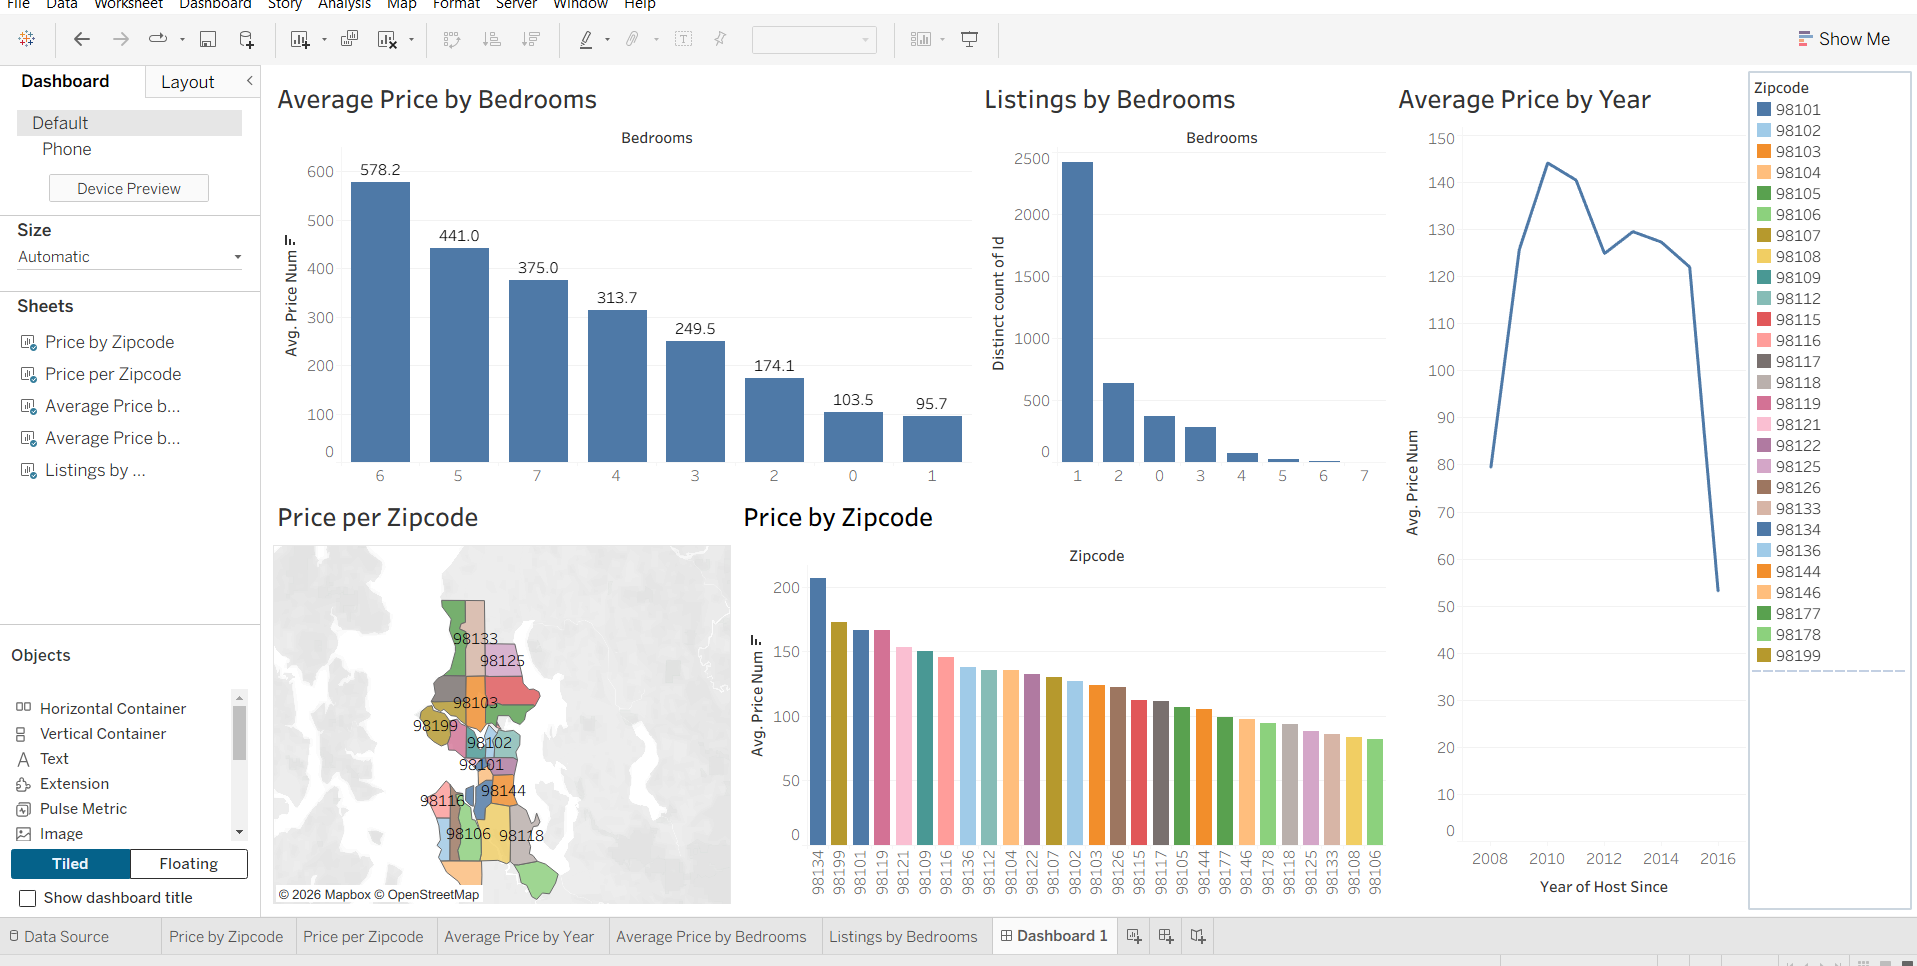

What the dashboard file says about the page in this screenshot:
{"tool":"tableau","page":{"name":"Dashboard 1","canvas":[1000,1000],"units":"permille","ordinal":0},"visuals":[{"type":"worksheet","title":"Average Price by Bedrooms","mark":"Bar","rows":["Calculation_2017667605098496"],"cols":["bedrooms"],"box":[4.8,9.4,426.7,490.6]},{"type":"worksheet","title":"Listings by Bedrooms","mark":"Automatic","rows":["id"],"cols":["bedrooms"],"box":[431.5,9.4,249.8,490.6]},{"type":"worksheet","title":"Average Price by Year","mark":"Line","rows":["Calculation_2017667605098496"],"cols":["host_since"],"box":[681.4,9.4,217.3,981.2]},{"type":"legend","title":"Price by Zipcode","param":"[federated.12erpnm1e31wxz1g6sfn00jbye2o].[none:zipcode:ok]","box":[898.6,9.4,96.6,701.5]},{"type":"worksheet","title":"Price per Zipcode","mark":"Multipolygon","box":[4.8,500,281.2,490.6]},{"type":"worksheet","title":"Price by Zipcode","mark":"Automatic","rows":["Calculation_2017667605098496"],"cols":["zipcode"],"box":[286.1,500,395.3,490.6]}]}

Visuals, with their boxes on the dashboard's canvas, which has no fixed pixel size, in thousandths of its width and height (x1, y1, x2, y2). These are canvas units, not pixel positions in the 1917x966 screenshot, which may show the page scaled, cropped or inside an application window:
"Average Price by Bedrooms" worksheet (Bar marks): [left=5, top=9, right=432, bottom=500]
"Listings by Bedrooms" worksheet: [left=432, top=9, right=681, bottom=500]
"Average Price by Year" worksheet (Line marks): [left=681, top=9, right=899, bottom=991]
"Price by Zipcode" legend: [left=899, top=9, right=995, bottom=711]
"Price per Zipcode" worksheet (Multipolygon marks): [left=5, top=500, right=286, bottom=991]
"Price by Zipcode" worksheet: [left=286, top=500, right=681, bottom=991]
